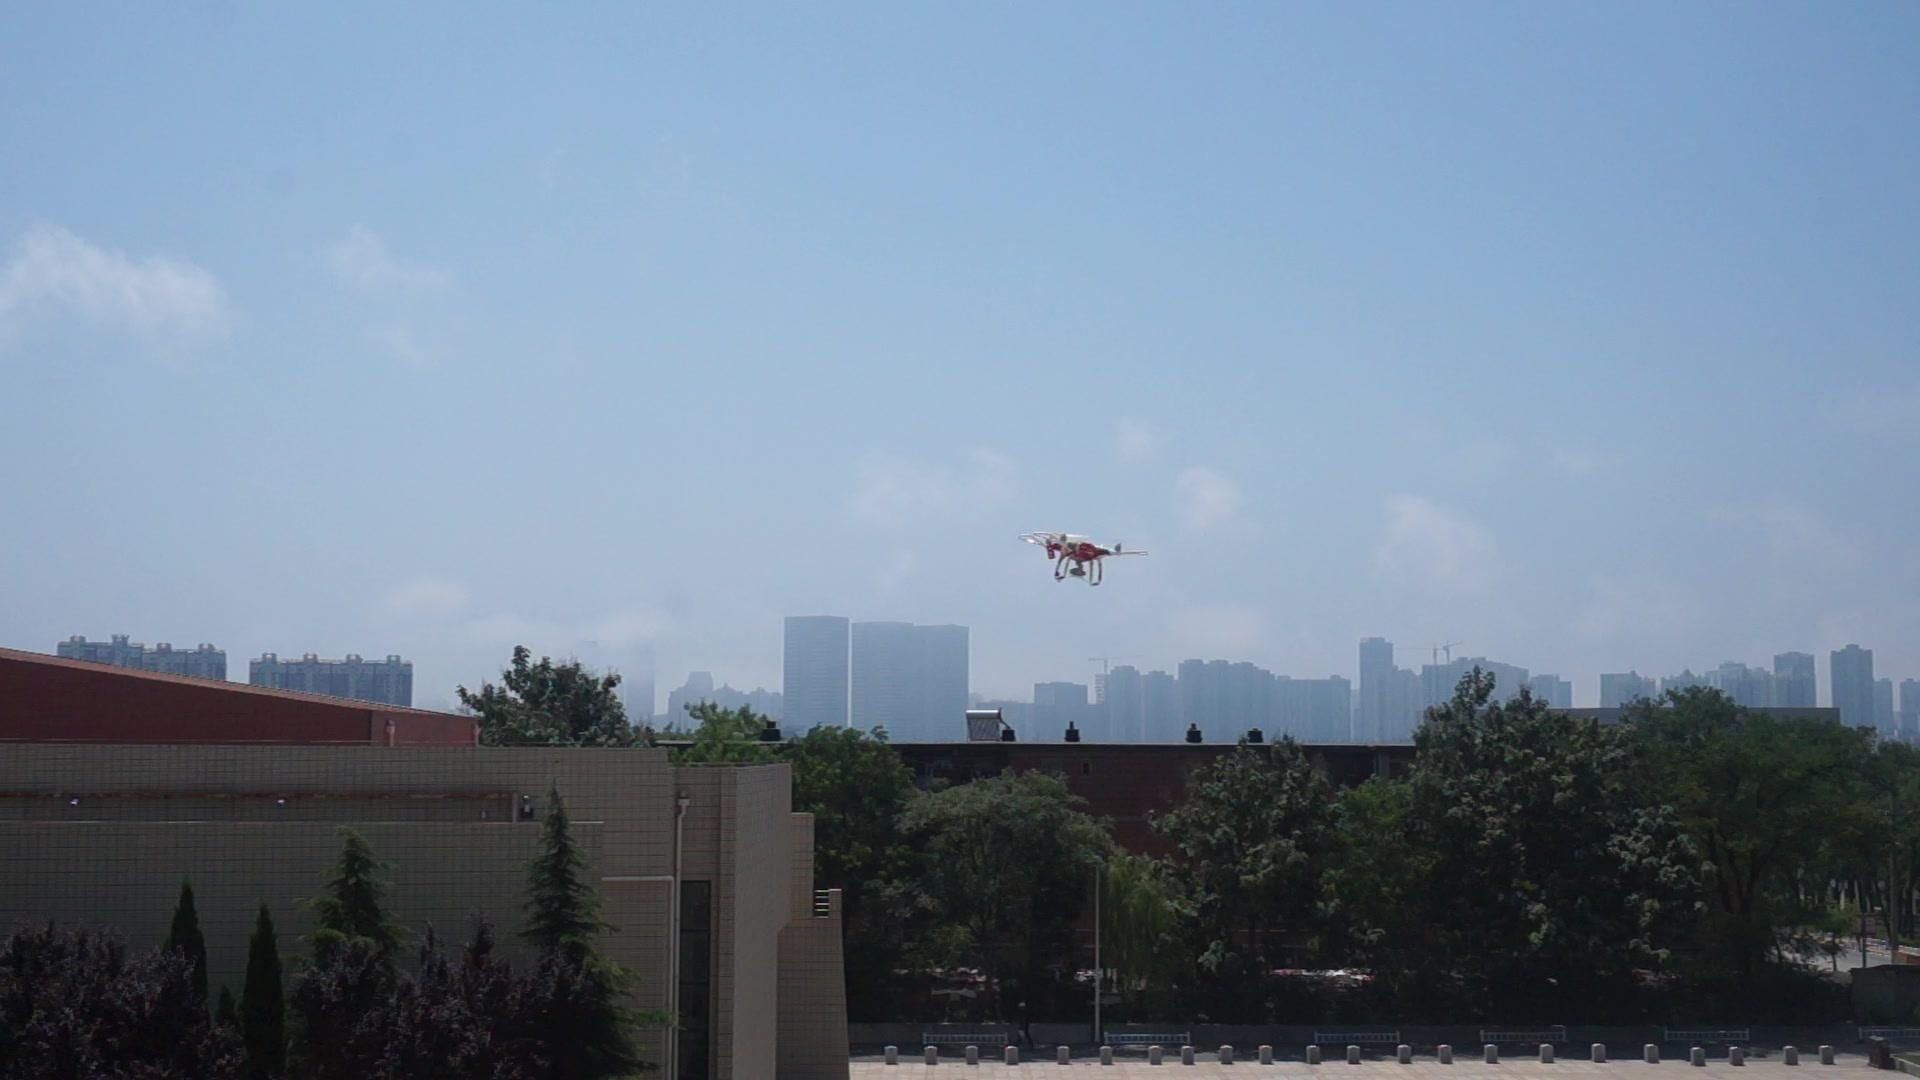UAV: (1019, 531, 1149, 587)
